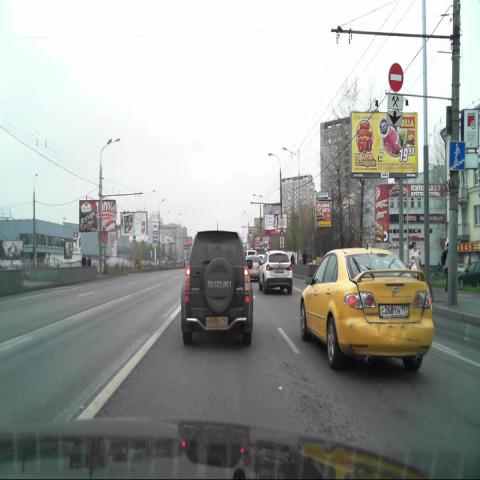3_1: (388, 63, 404, 92)
